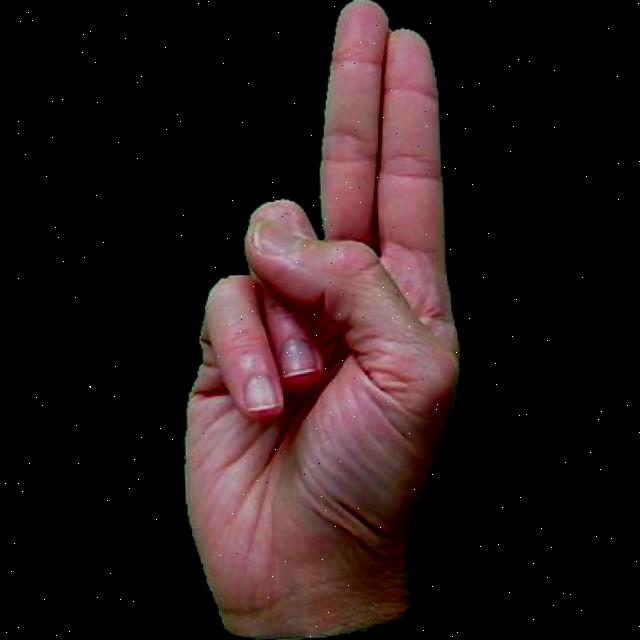u: (141, 0, 470, 640)
